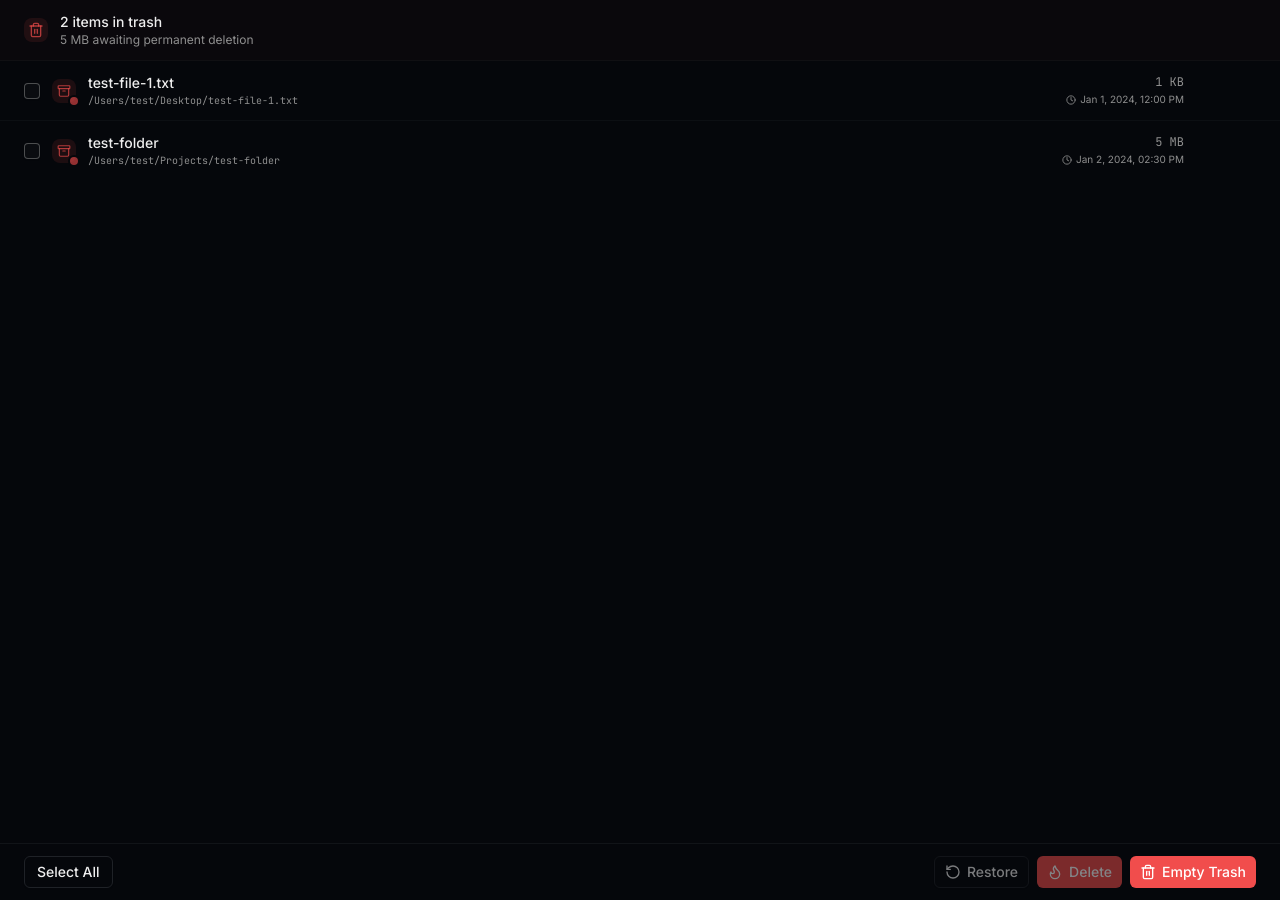
Test case: TrashView › Selection behavior › toggles to deselect all after selecting all
The image size is (1280, 900).
Click the button "Select All".
click(68, 872)  # box [24,856,113,888]
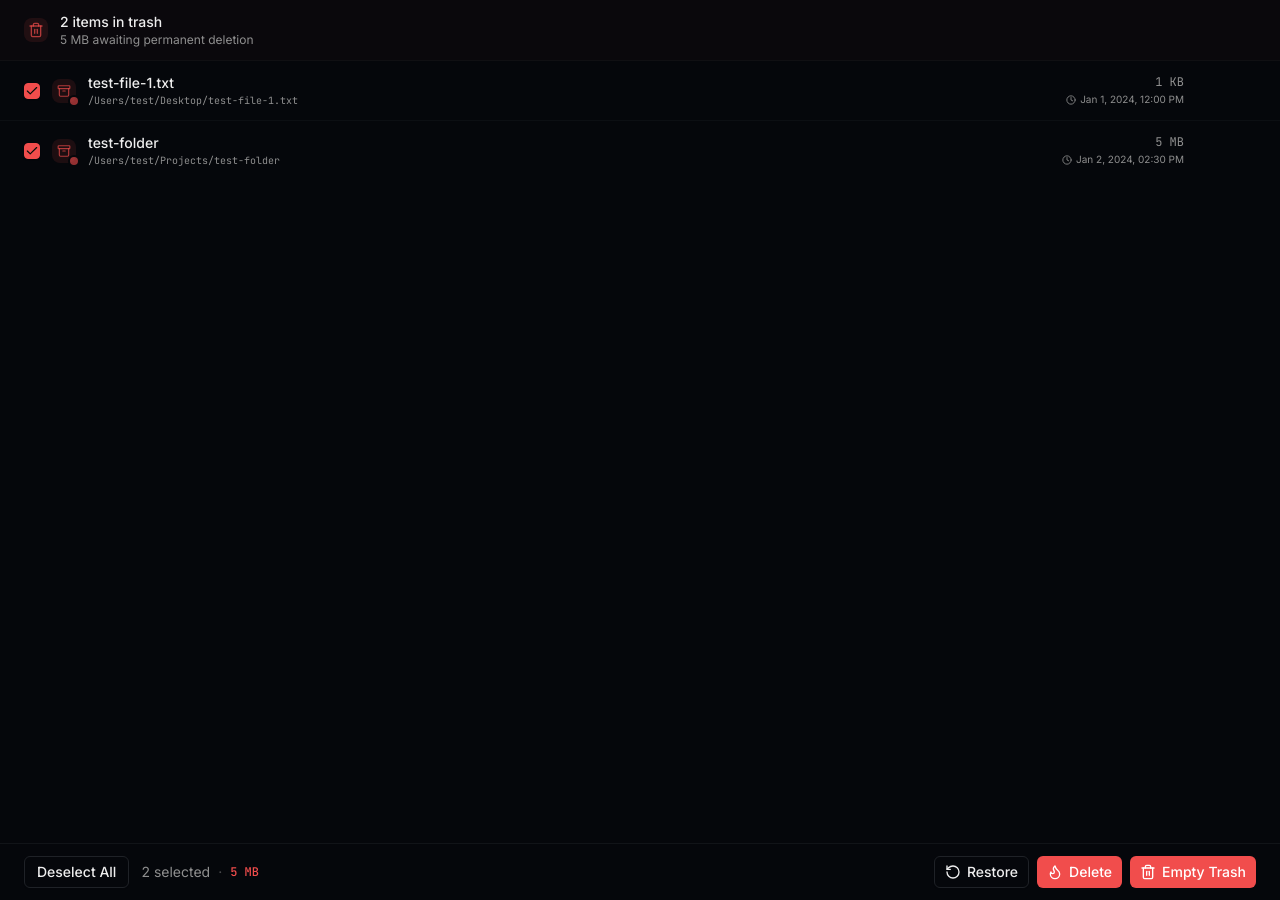
Expected: the button "Deselect All" is shown, [24,856,129,888]
